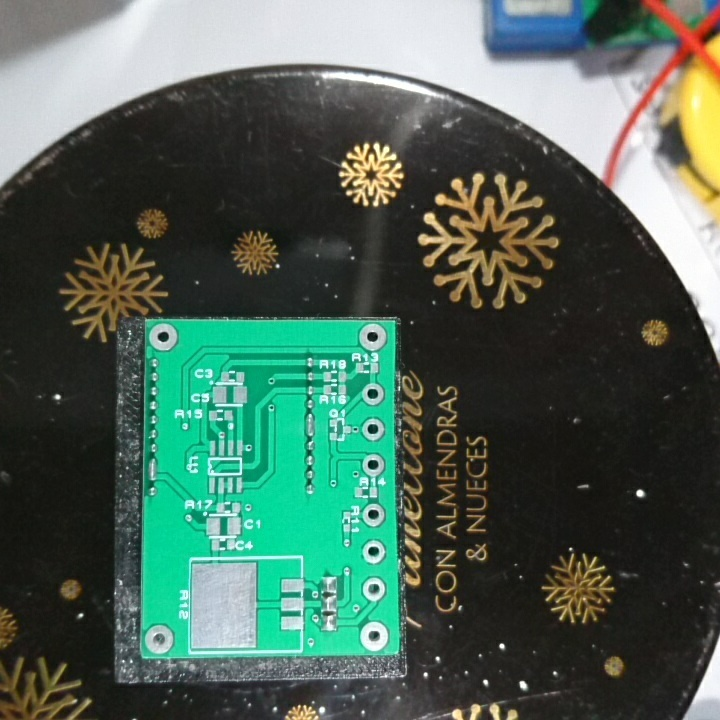F: (147, 320, 181, 353), (358, 619, 392, 652), (143, 623, 175, 657), (358, 320, 387, 353), (360, 380, 387, 411), (360, 538, 387, 569), (360, 502, 388, 530), (360, 575, 388, 603), (360, 416, 387, 443), (360, 452, 388, 476)
P: (146, 455, 161, 484), (302, 409, 316, 439)
